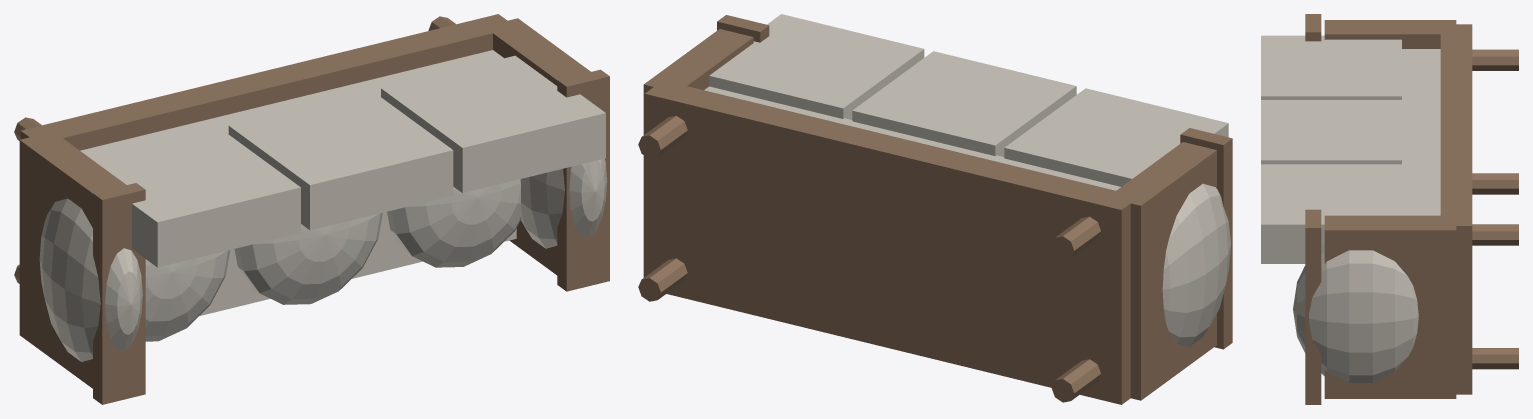
File: arday_sofa.glb
The picture shows the model from 3 angles, left to right: view 1: azimuth 30°, elevation 25°; view 2: azimuth 150°, elevation 25°; view 3: azimuth 270°, elevation 25°; orthographic projection. The views are drawn at different scales.
Parts seen in each view (by area): view 1: world; view 2: world; view 3: world.
Boxes of the visible parts, bbox=[...] form: world: bbox=[14, 14, 609, 404]; world: bbox=[638, 14, 1232, 404]; world: bbox=[1261, 14, 1518, 404].
Bounding box in the file's own units: 2.34 × 0.86 × 1.13.
